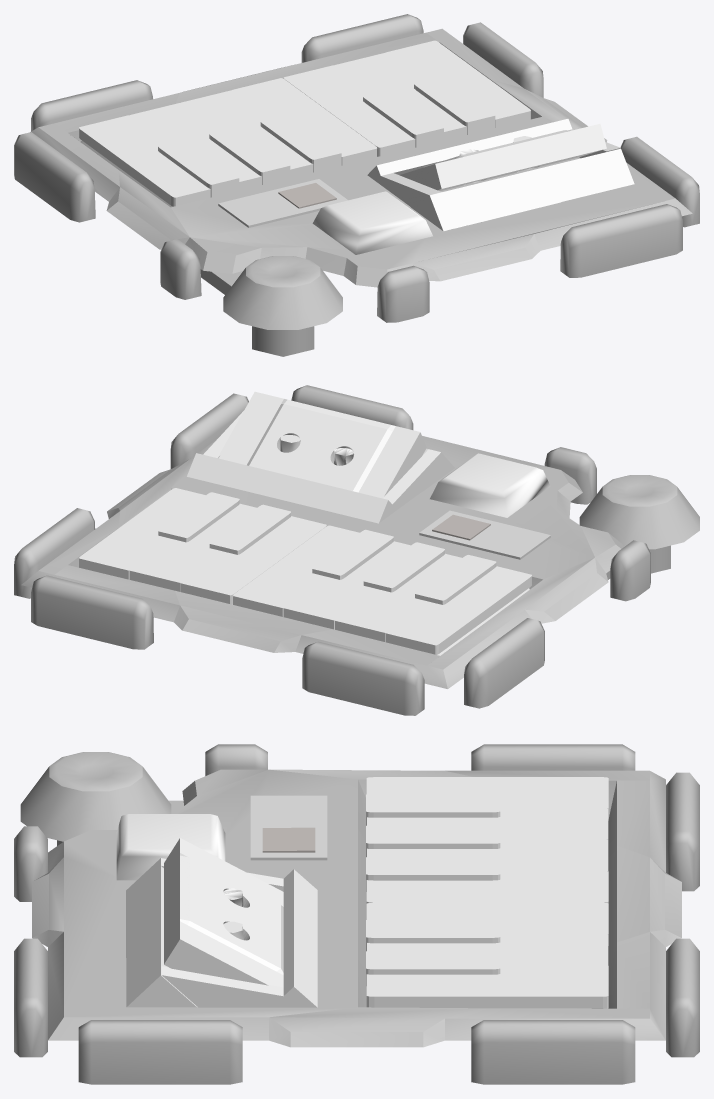
The model's file is piano_keys.fbx.
The picture shows the model from 3 angles, top to bottom: view 1: azimuth 30°, elevation 25°; view 2: azimuth 150°, elevation 25°; view 3: azimuth 270°, elevation 25°; orthographic projection. The views are drawn at different scales.
Parts seen in each view (by area): view 1: Component_PuzzleBackground, Holder, Cassette, BHighlight, KeyHighlight, EHighlight, FHighlight, CHighlight, GHighlight, AHighlight, DHighlight, SwitchHighlight (+6 smaller); view 2: Component_PuzzleBackground, Cassette, Holder, BHighlight, KeyHighlight, EHighlight, CHighlight, FHighlight, AHighlight, DHighlight, GHighlight, SwitchHighlight (+6 smaller); view 3: Component_PuzzleBackground, Holder, Cassette, CHighlight, FHighlight, EHighlight, BHighlight, KeyHighlight, AHighlight, DHighlight, GHighlight, SwitchHighlight (+6 smaller).
Boxes of the visible parts, x1,y1,x2,y2 form: Component_PuzzleBackground: (14,14,699,356); Holder: (367,119,634,231); Cassette: (399,123,606,190); BHighlight: (79,115,210,206); KeyHighlight: (312,191,432,254); EHighlight: (283,65,415,156); FHighlight: (231,78,377,165); CHighlight: (385,40,530,127); GHighlight: (181,90,313,177); AHighlight: (129,103,261,190); DHighlight: (334,53,466,140); SwitchHighlight: (218,179,347,227); Component_PuzzleBackground: (14,385,699,715); Cassette: (218,391,426,498); Holder: (187,411,454,523); BHighlight: (386,566,531,654); KeyHighlight: (430,453,550,517); EHighlight: (180,516,326,604); CHighlight: (79,488,205,579); FHighlight: (233,525,359,616); AHighlight: (335,553,461,642); DHighlight: (129,503,256,591); GHighlight: (283,541,410,629); SwitchHighlight: (419,510,550,559); Component_PuzzleBackground: (14,744,699,1084); Holder: (126,858,317,1007); Cassette: (164,838,283,987); CHighlight: (366,965,608,1008); FHighlight: (366,871,608,903); EHighlight: (366,902,608,945); BHighlight: (366,777,608,820); KeyHighlight: (116,814,225,880); AHighlight: (367,808,608,839); DHighlight: (367,934,608,965); GHighlight: (367,840,608,871); SwitchHighlight: (250,795,327,860).
Size of the model in its own units: 20 by 4.37 by 20.
